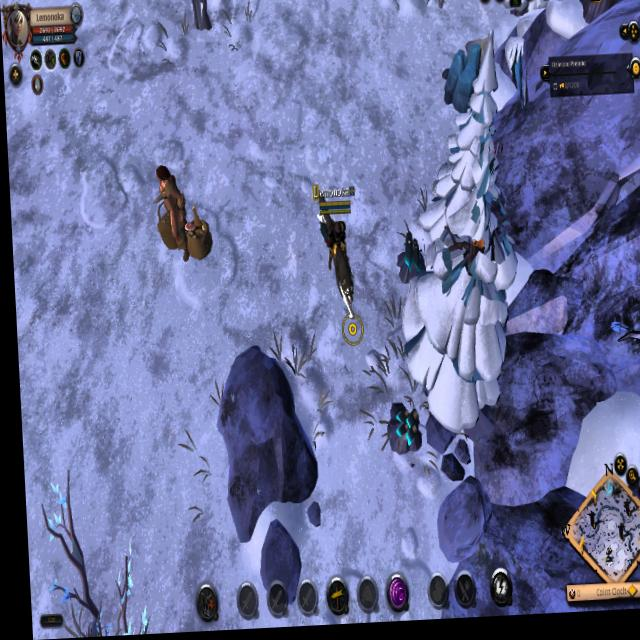ore tier 4: (380, 400, 419, 461), (392, 235, 424, 289)
rock tier 4: (438, 48, 483, 120)
